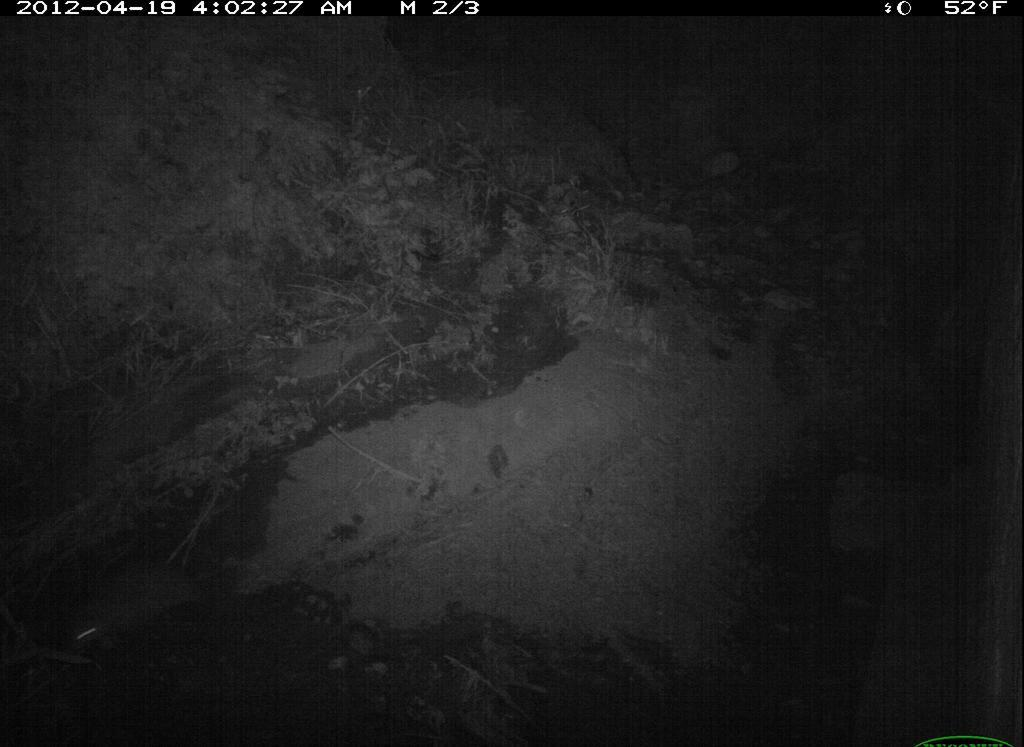opossum: (44, 542, 263, 673)
